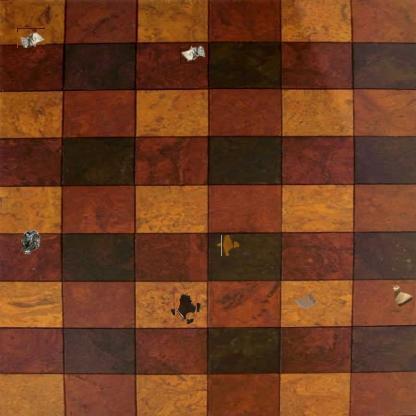dirty: (180, 44, 209, 64), (391, 284, 415, 308), (20, 229, 42, 255), (17, 29, 45, 48), (293, 292, 319, 312)
liquid: (172, 295, 200, 321), (219, 237, 237, 254)
